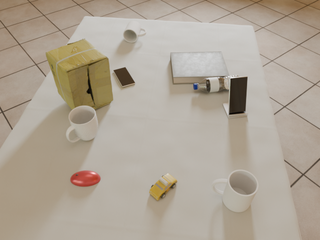book: (170, 52, 229, 84)
bottle: (193, 75, 240, 92)
box: (46, 38, 113, 110)
cup: (212, 170, 258, 212), (66, 105, 98, 142), (123, 21, 146, 42)
mouse: (70, 171, 100, 186)
phone: (228, 76, 247, 114), (113, 67, 135, 87)
toy_car: (149, 174, 177, 200)
